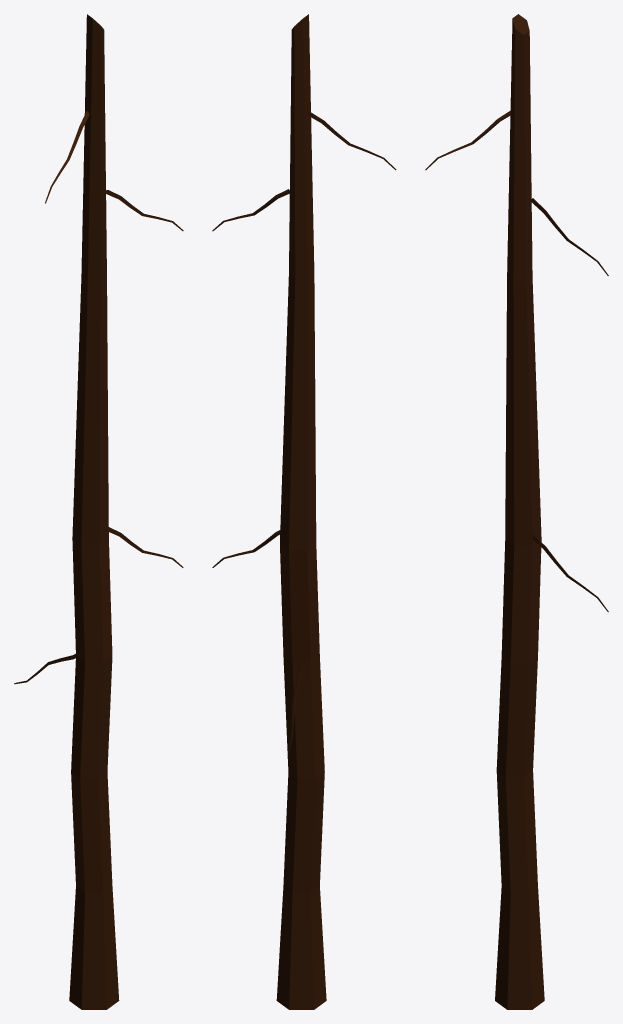
The model's file is dead_tree_01.glb.
The picture shows the model from 3 angles, left to right: view 1: azimuth 30°, elevation 25°; view 2: azimuth 150°, elevation 25°; view 3: azimuth 330°, elevation 25°; orthographic projection.
Visible parts, largest first — view 1: Dead_Tree_01; view 2: Dead_Tree_01; view 3: Dead_Tree_01.
Boxes of the visible parts, box(x1,y1,x2,y2) form: Dead_Tree_01: box(14, 14, 183, 1009); Dead_Tree_01: box(212, 14, 396, 1009); Dead_Tree_01: box(425, 14, 608, 1009).
Size of the model in its own units: 1.15 by 6.69 by 0.8528.
